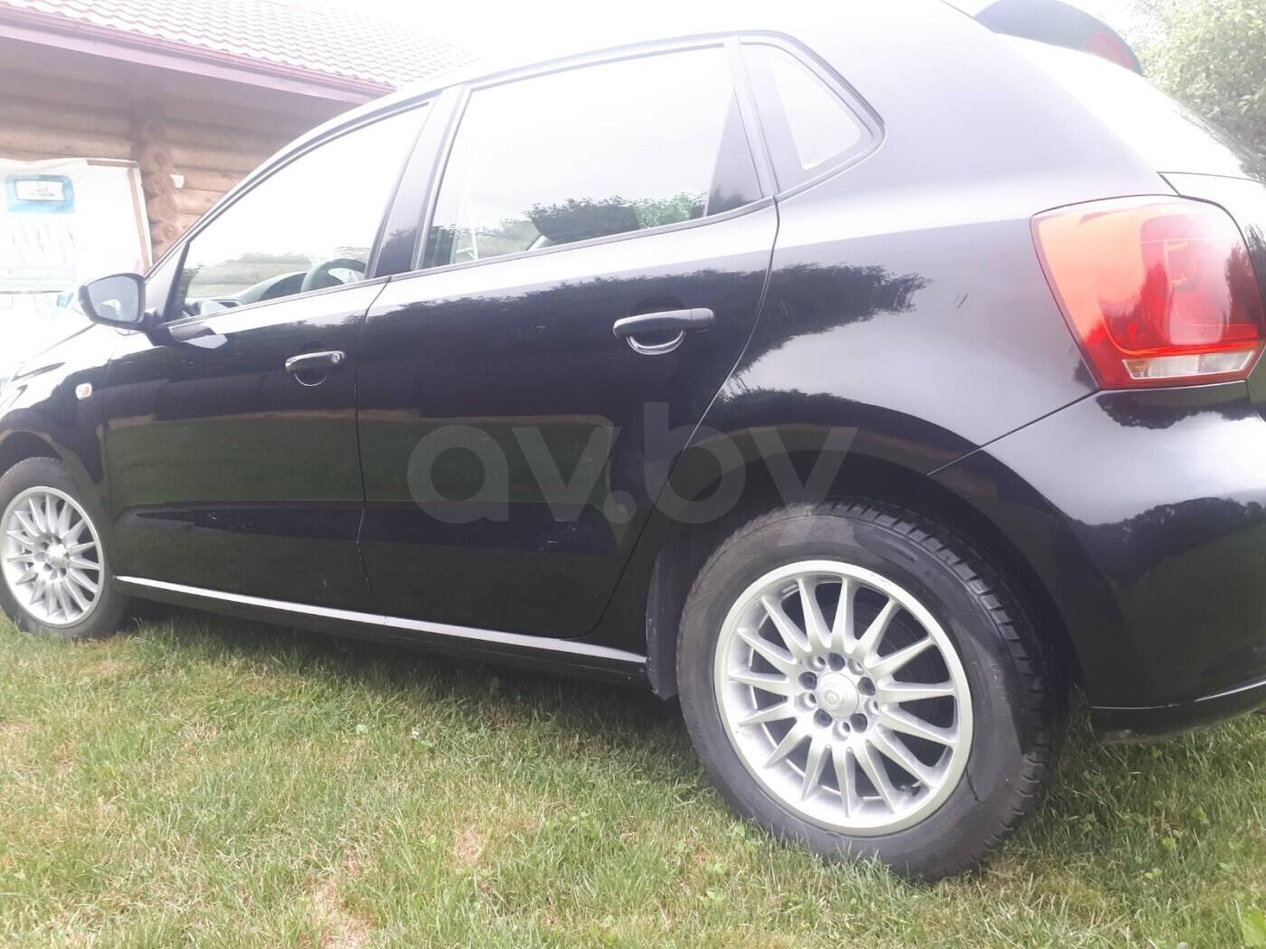Polo_2009-2015: (0, 0, 1265, 888)
